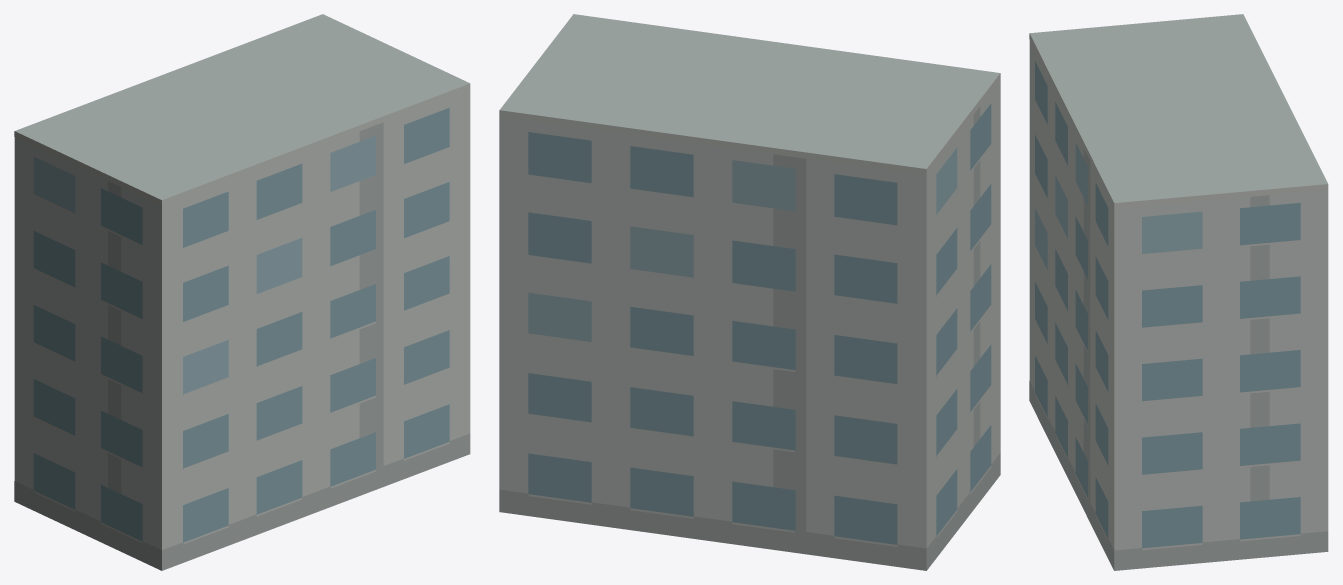
The model's file is residential-1d2f96c3-f7ac-4b61-8fad-45ee4cbd88b3.glb.
The picture shows the model from 3 angles, left to right: view 1: azimuth 30°, elevation 25°; view 2: azimuth 150°, elevation 25°; view 3: azimuth 270°, elevation 25°; orthographic projection. The views are drawn at different scales.
Parts seen in each view (by area): view 1: residential-1d2f96c3-f7ac-4b61-8fad-45ee4cbd88b3.tmp; view 2: residential-1d2f96c3-f7ac-4b61-8fad-45ee4cbd88b3.tmp; view 3: residential-1d2f96c3-f7ac-4b61-8fad-45ee4cbd88b3.tmp.
Boxes of the visible parts, x1=… form: residential-1d2f96c3-f7ac-4b61-8fad-45ee4cbd88b3.tmp: x1=14, y1=14, x2=470, y2=570; residential-1d2f96c3-f7ac-4b61-8fad-45ee4cbd88b3.tmp: x1=499, y1=14, x2=1000, y2=570; residential-1d2f96c3-f7ac-4b61-8fad-45ee4cbd88b3.tmp: x1=1029, y1=14, x2=1328, y2=570.
Size of the model in its own units: 16.83 by 15.25 by 11.24.
